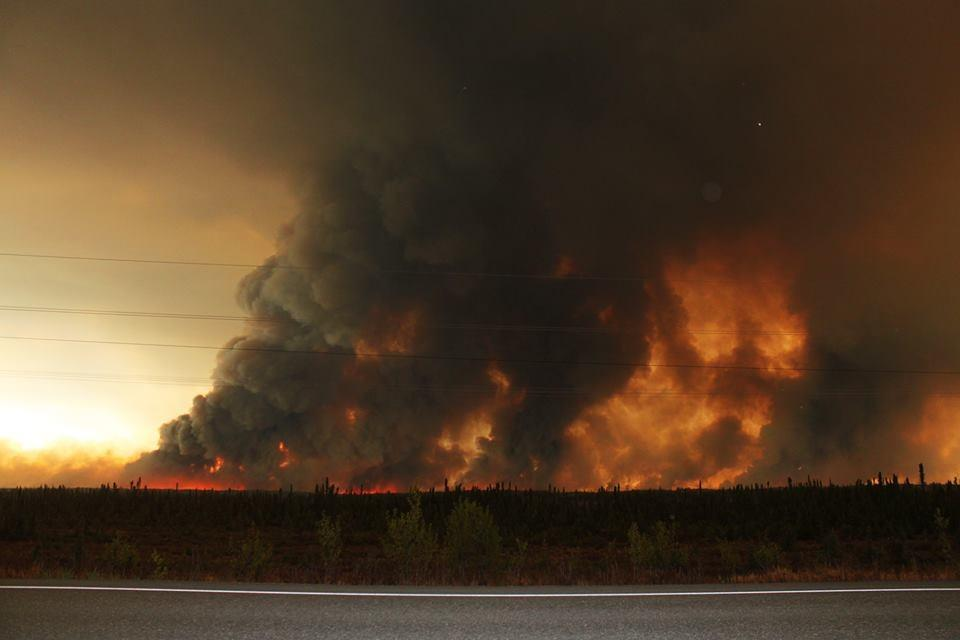smoke: (111, 94, 943, 491)
